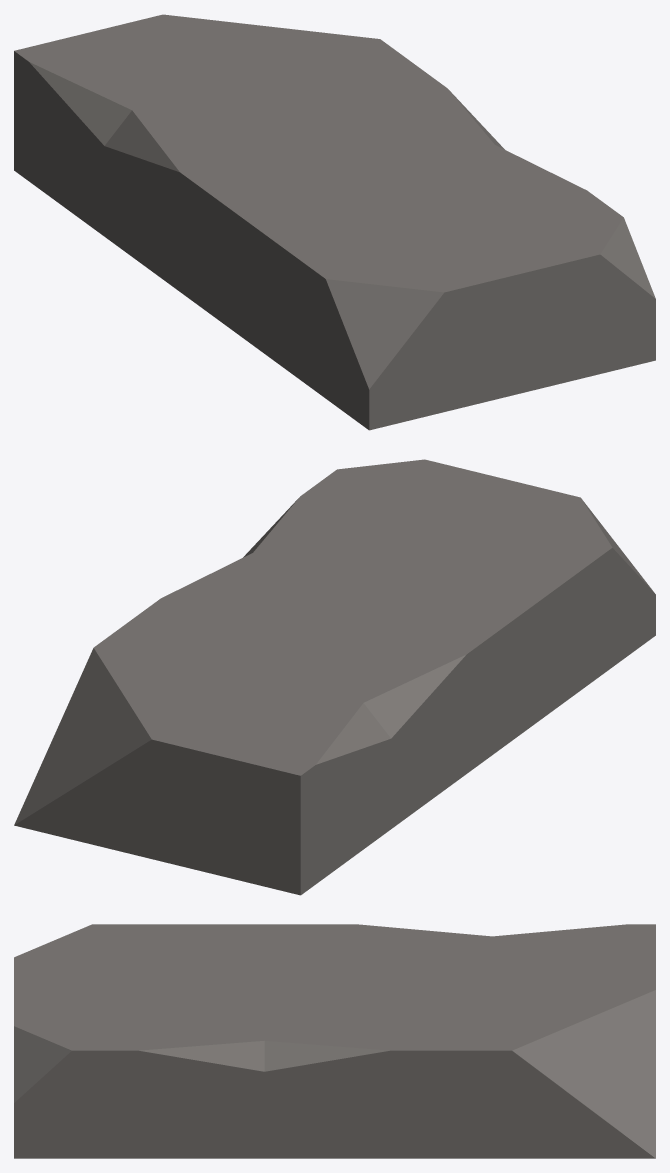
File: SM_Env_Brick_01.fbx
3 views of the same model, one above another, from view 1: azimuth 30°, elevation 25°; view 2: azimuth 150°, elevation 25°; view 3: azimuth 270°, elevation 25° (orthographic). The views are drawn at different scales.
Parts seen in each view (by area): view 1: SM_Env_Brick_01; view 2: SM_Env_Brick_01; view 3: SM_Env_Brick_01.
Part boxes in pixels (x1,y1,x2,y2): SM_Env_Brick_01: [14, 14, 655, 430]; SM_Env_Brick_01: [14, 459, 655, 895]; SM_Env_Brick_01: [14, 924, 655, 1158].
Bounding box in the file's own units: 38.94 × 15.53 × 83.55.
Materials: 1 (1 with a texture image).
